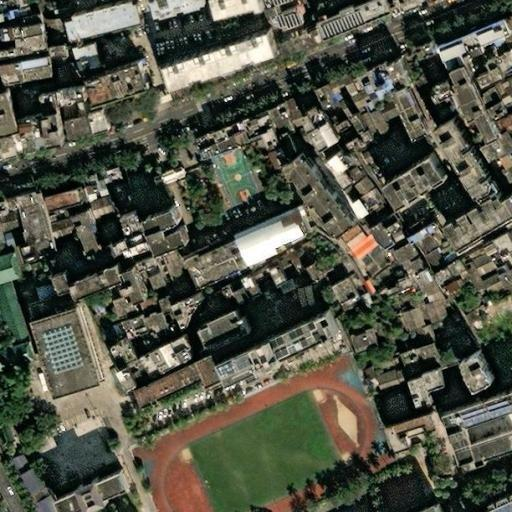building: (220, 311, 335, 380), (167, 31, 280, 91), (23, 304, 95, 398), (134, 361, 226, 424), (276, 156, 347, 235), (327, 220, 397, 298), (432, 116, 499, 195), (225, 202, 308, 265), (439, 185, 512, 250), (448, 389, 512, 461), (453, 66, 506, 146), (54, 466, 127, 512), (378, 149, 439, 203), (7, 195, 54, 264), (431, 20, 504, 62), (64, 210, 112, 272), (324, 0, 393, 40), (183, 239, 239, 285), (91, 66, 146, 103), (199, 307, 246, 349), (147, 204, 190, 248), (198, 127, 247, 163), (394, 88, 429, 138), (142, 307, 182, 350), (77, 266, 125, 301), (363, 214, 403, 256), (154, 339, 198, 377), (369, 60, 410, 100), (122, 357, 164, 395), (251, 263, 292, 299), (303, 106, 336, 150), (486, 238, 512, 293), (120, 317, 154, 358), (155, 256, 183, 305), (347, 188, 383, 226), (20, 293, 70, 319), (383, 242, 419, 277), (239, 112, 279, 143), (2, 62, 49, 87), (0, 283, 18, 347), (20, 113, 48, 154), (222, 278, 259, 309), (301, 254, 338, 285), (453, 351, 485, 386), (385, 416, 432, 439), (261, 290, 292, 323), (16, 26, 49, 57), (280, 281, 310, 314), (345, 319, 378, 349), (146, 266, 169, 309), (484, 80, 512, 114), (348, 109, 377, 141), (476, 63, 507, 92), (354, 134, 387, 161), (290, 30, 325, 55), (222, 0, 268, 19), (404, 375, 429, 409), (329, 279, 356, 310), (136, 278, 159, 313), (477, 488, 512, 511), (54, 123, 77, 157), (13, 471, 39, 500), (451, 260, 475, 291), (278, 12, 310, 35), (420, 242, 448, 268), (316, 89, 339, 120), (113, 299, 140, 325), (101, 171, 126, 199), (108, 344, 134, 370), (78, 48, 104, 74), (334, 92, 362, 116), (144, 168, 177, 188), (436, 388, 470, 407), (62, 96, 92, 117), (41, 188, 73, 207), (84, 176, 108, 201), (281, 247, 302, 275), (406, 497, 445, 512), (382, 120, 405, 145), (7, 133, 29, 159), (44, 19, 64, 47), (462, 252, 486, 275), (394, 351, 415, 377), (496, 49, 512, 83), (69, 119, 90, 144), (415, 301, 437, 323), (49, 268, 70, 291), (357, 88, 378, 111), (85, 115, 104, 140), (403, 0, 428, 19), (412, 224, 437, 243), (125, 220, 147, 241), (344, 177, 366, 198), (329, 157, 350, 179), (330, 75, 351, 97), (393, 309, 414, 331), (432, 80, 455, 100), (473, 274, 496, 294), (494, 109, 512, 133), (409, 347, 433, 365), (27, 284, 49, 303), (420, 369, 440, 389), (267, 133, 285, 155), (0, 255, 14, 283), (45, 100, 64, 120), (2, 455, 19, 475), (48, 44, 68, 61), (6, 0, 24, 18), (274, 0, 299, 12), (426, 319, 443, 336), (418, 287, 434, 304), (416, 272, 431, 289), (417, 46, 435, 60), (31, 500, 52, 512), (0, 49, 20, 61), (17, 18, 37, 30), (408, 326, 421, 344), (395, 280, 414, 291), (197, 343, 210, 353)
